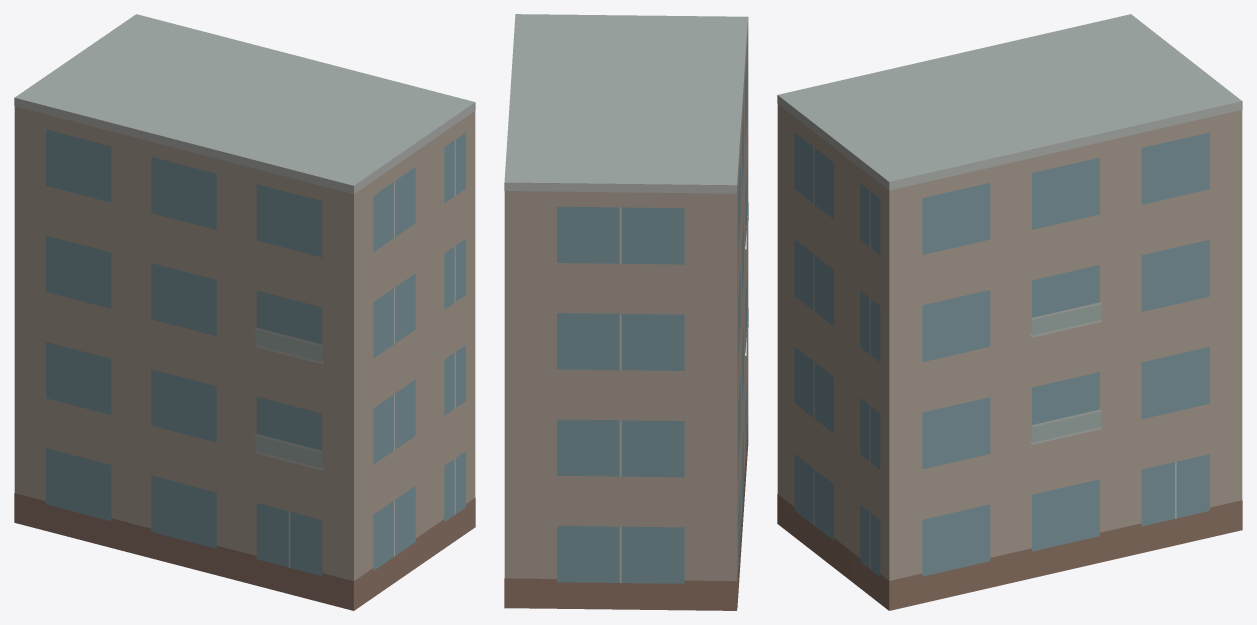
File: residential-25c54a25-3df4-4715-ad8a-df864e07c7d2.glb
3 views of the same model, side by side, from view 1: azimuth 30°, elevation 25°; view 2: azimuth 150°, elevation 25°; view 3: azimuth 270°, elevation 25° (orthographic).
Visible parts, largest first — view 1: residential-25c54a25-3df4-4715-ad8a-df864e07c7d2.tmp; view 2: residential-25c54a25-3df4-4715-ad8a-df864e07c7d2.tmp; view 3: residential-25c54a25-3df4-4715-ad8a-df864e07c7d2.tmp.
Boxes of the visible parts, x1,y1,x2,y2 form: residential-25c54a25-3df4-4715-ad8a-df864e07c7d2.tmp: [14, 14, 475, 610]; residential-25c54a25-3df4-4715-ad8a-df864e07c7d2.tmp: [504, 14, 748, 610]; residential-25c54a25-3df4-4715-ad8a-df864e07c7d2.tmp: [777, 14, 1242, 610].
Size of the model in its own units: 10.26 by 12.2 by 12.
